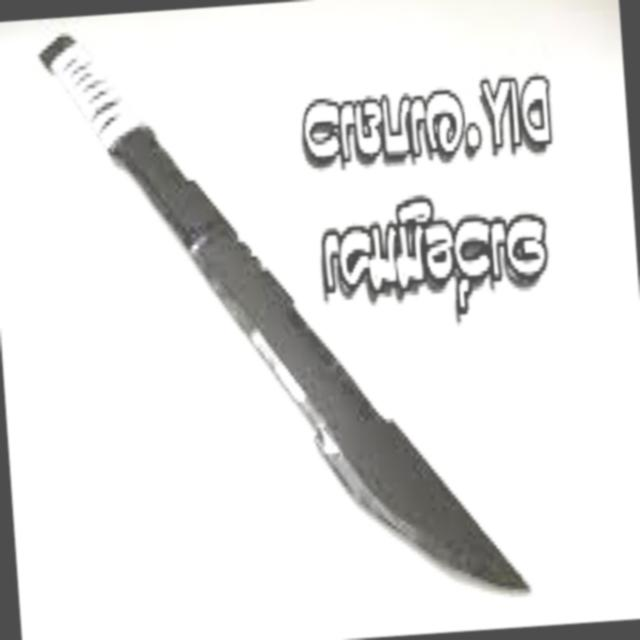long sword: (32, 1, 536, 606)
